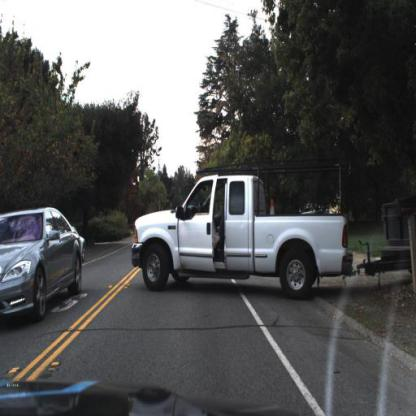car: (1, 209, 83, 323), (69, 223, 87, 259)
truck: (116, 162, 411, 299)
